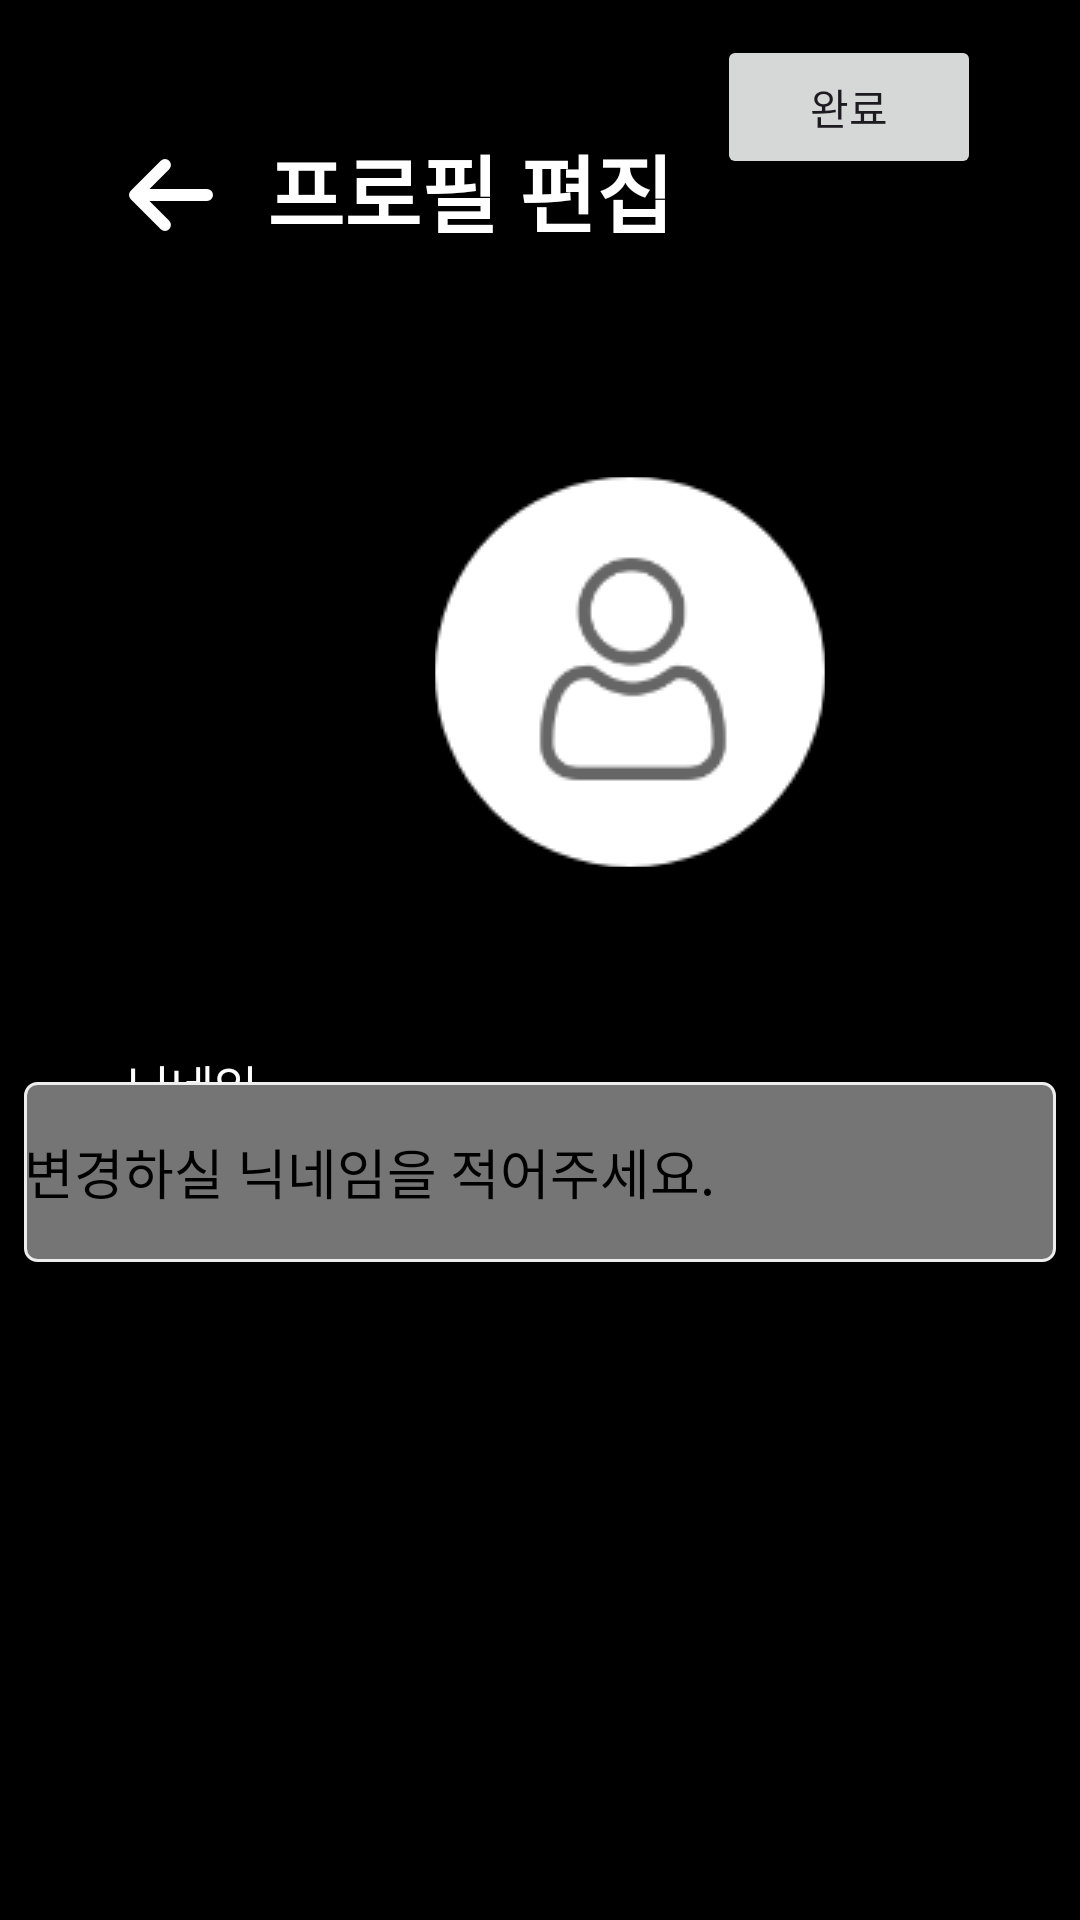

Screen size 1080px x 1920px. Icon name, then its box in pixels as (x1, y1, x2, y2):
arrow left: (129, 159, 213, 231)
